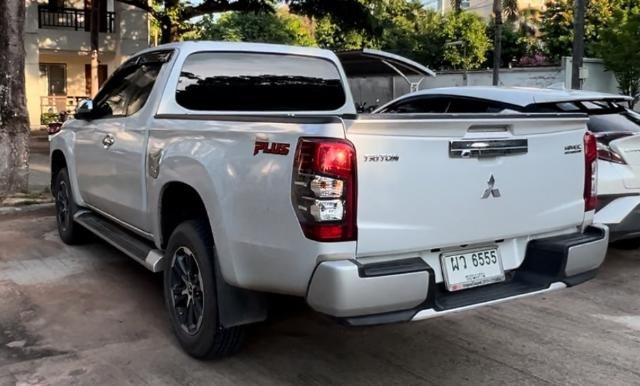pickup-truck: (46, 39, 611, 363)
